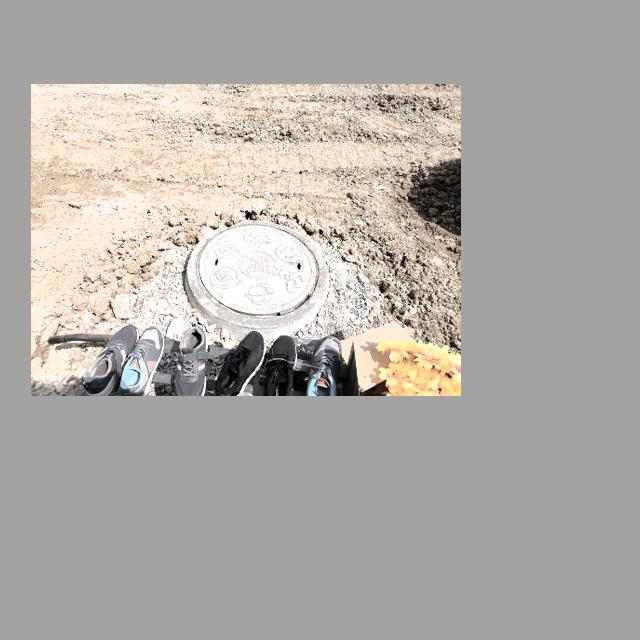good: (184, 219, 327, 326)
